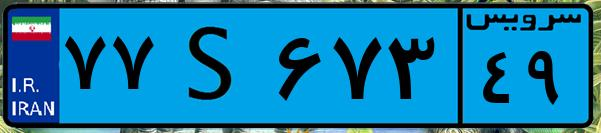3: (385, 28, 445, 110)
4: (475, 38, 525, 113)
6: (270, 28, 330, 110)
7: (330, 28, 385, 110), (57, 26, 110, 100), (110, 28, 158, 98)
9: (525, 38, 570, 115)
S: (158, 12, 270, 120)
